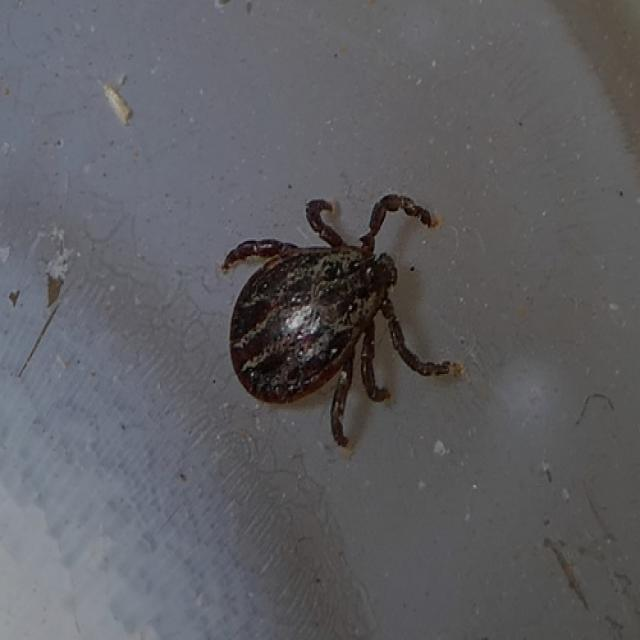Dermacentor Reticulatus-M: (223, 194, 451, 447)
